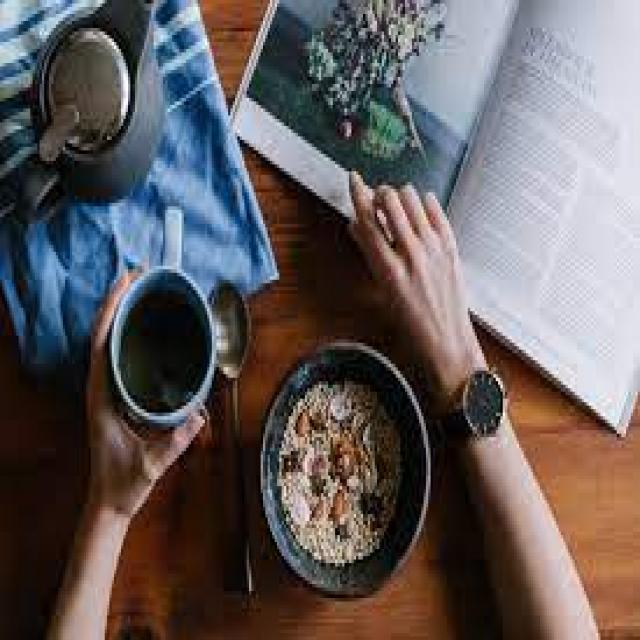Watch: (437, 363, 522, 461)
